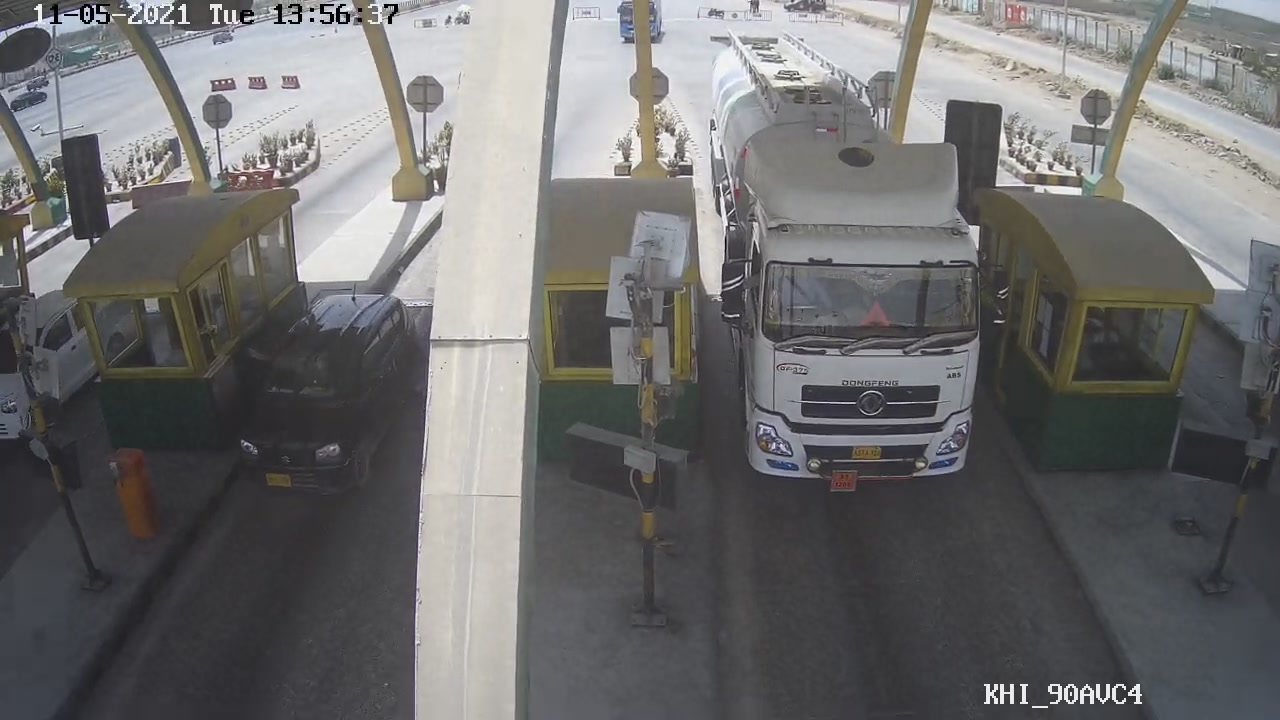F6: (713, 77, 1005, 503)
